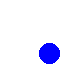circle: (39, 43, 59, 63)
